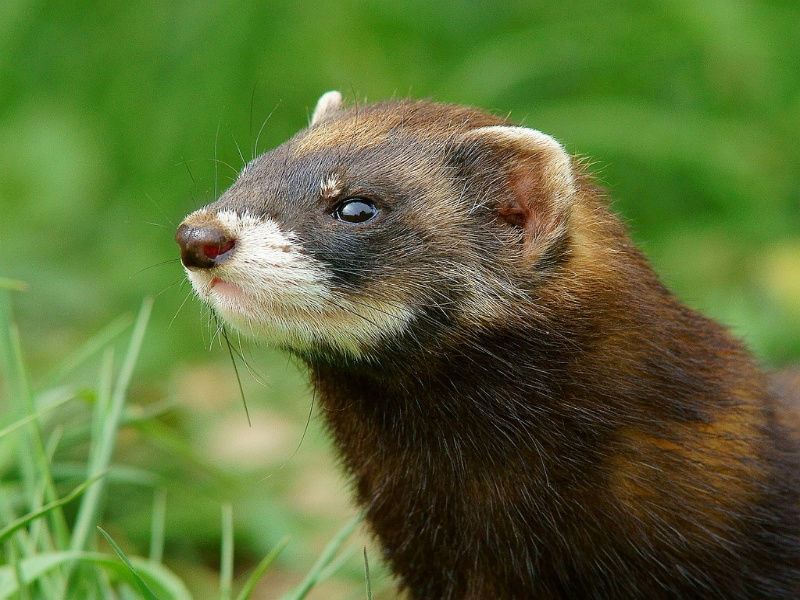minkish: (172, 90, 792, 588)
